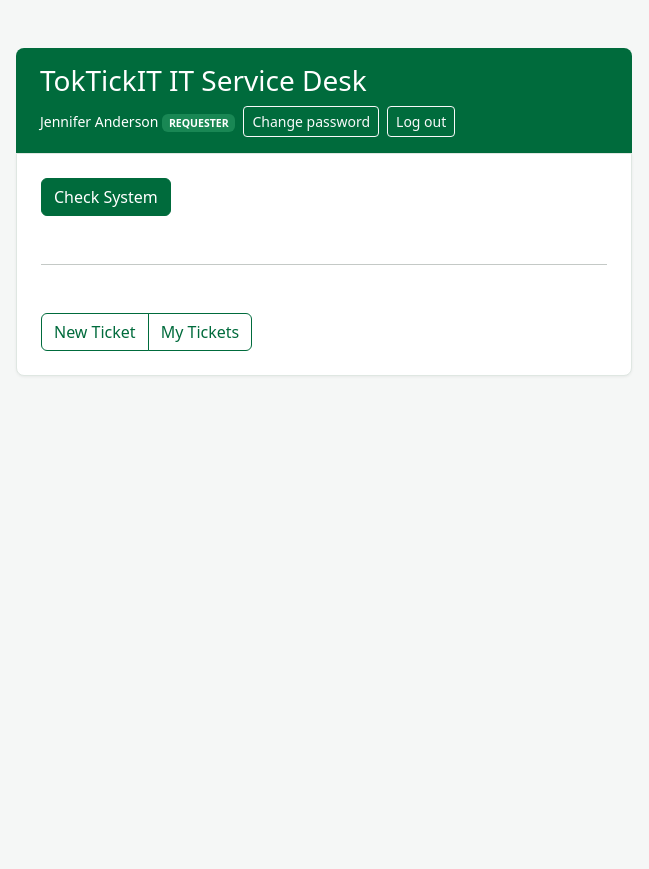
Test: CreateTicketForm › loads categories/related systems once New Ticket is opened, with no Requester field in the form
The image size is (649, 869).
Click the button "New Ticket" at (95, 332), box [41, 313, 149, 351]
(page scrolled)
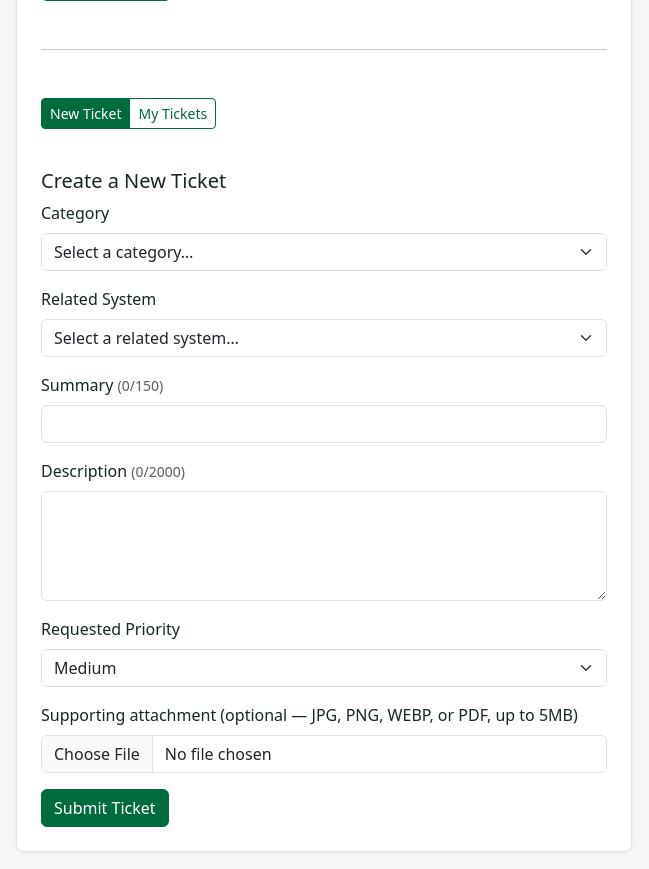
Expected: the button "Submit Ticket" is shown, [41, 789, 169, 827]
Expected: the text labelled "REQUESTER" is gone
